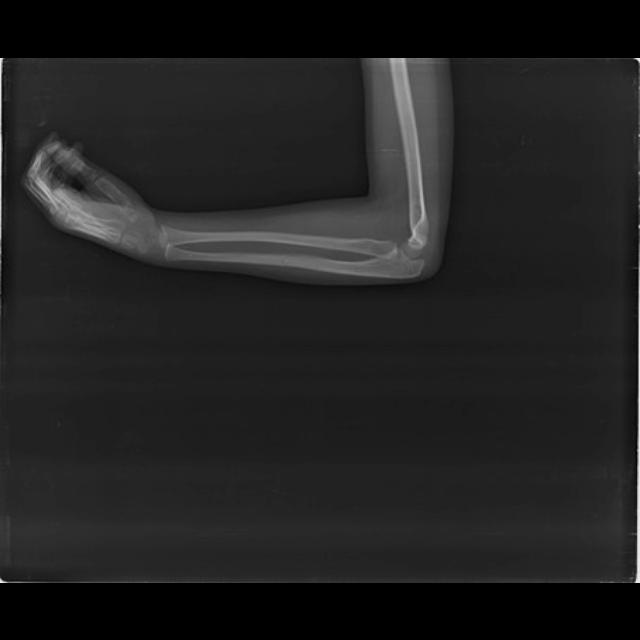Fracture: (275, 247, 292, 267)
